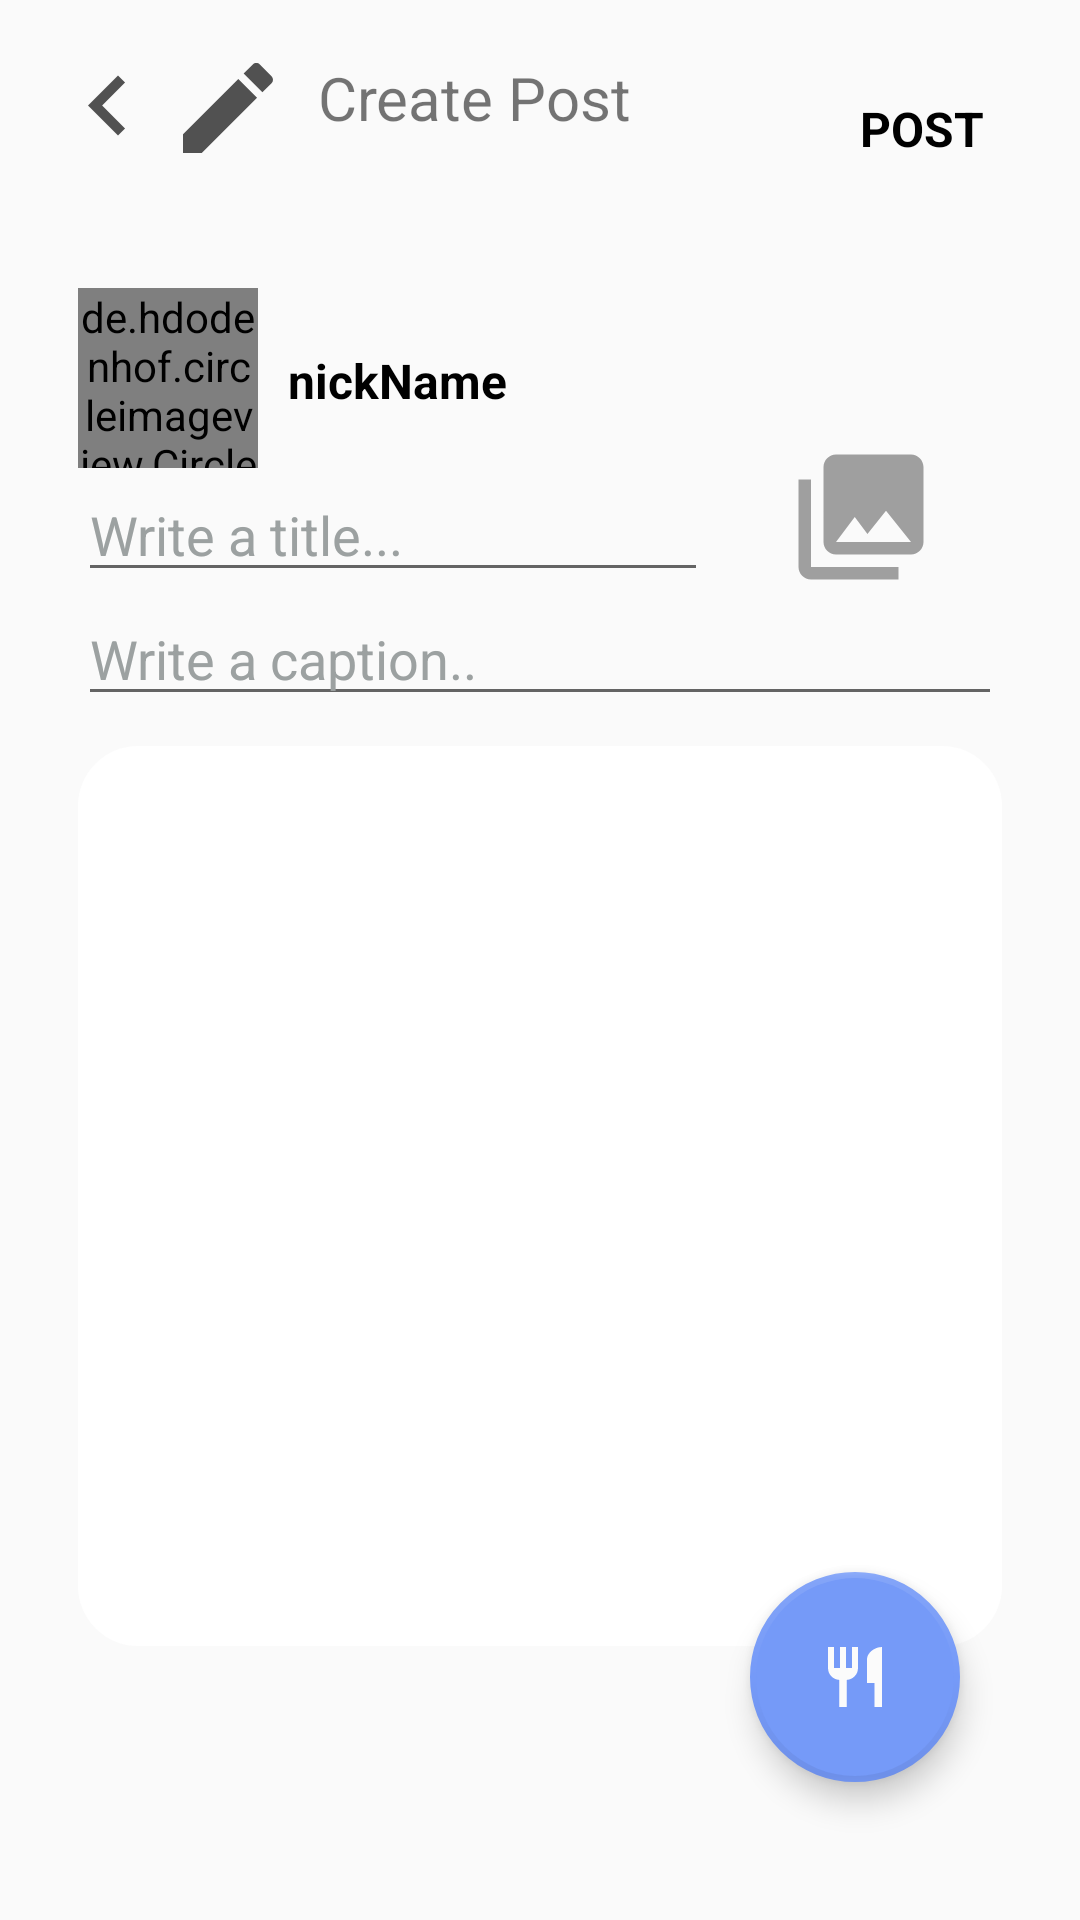

Icons on this 1080 × 1920 Android screen, each with its box as (x1, y1, x2, y2):
back: (88, 76, 125, 135)
photo library: (798, 454, 924, 580)
post edit: (183, 63, 273, 153)
restaurant: (750, 1572, 960, 1782)
